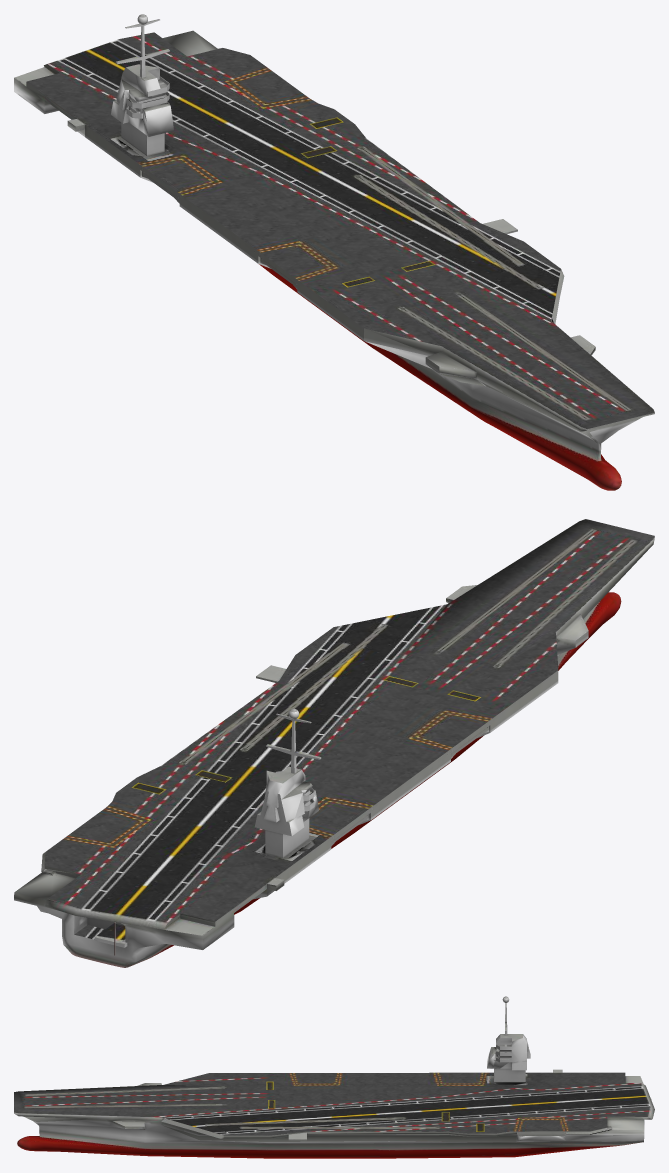
The model's file is carrier.glb.
3 renders of one model, top to bottom at view 1: azimuth 30°, elevation 25°; view 2: azimuth 150°, elevation 25°; view 3: azimuth 270°, elevation 25°, orthographic. The views are drawn at different scales.
Visible parts, largest first — view 1: carrier; view 2: carrier; view 3: carrier.
Boxes of the visible parts, x1,y1,x2,y2 form: carrier: (14, 14, 654, 490); carrier: (14, 519, 654, 967); carrier: (14, 996, 654, 1158).
Size of the model in its own units: 84.13 by 74.79 by 333.
2 materials, 2 textured.
